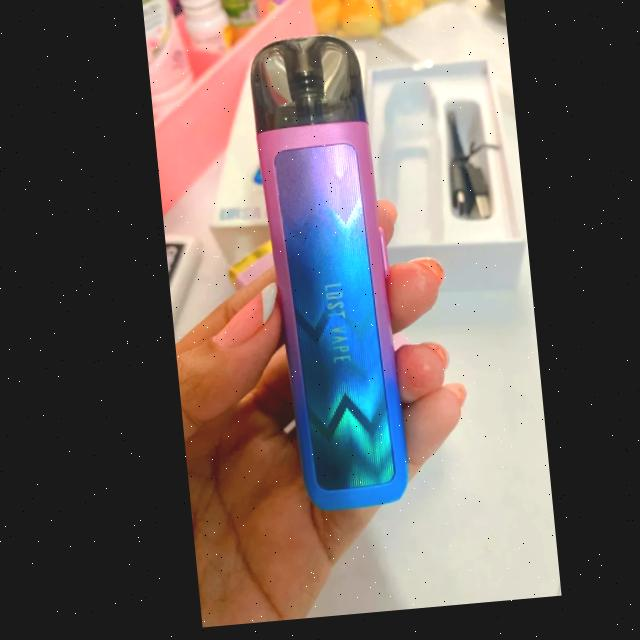vape: (243, 37, 400, 523)
